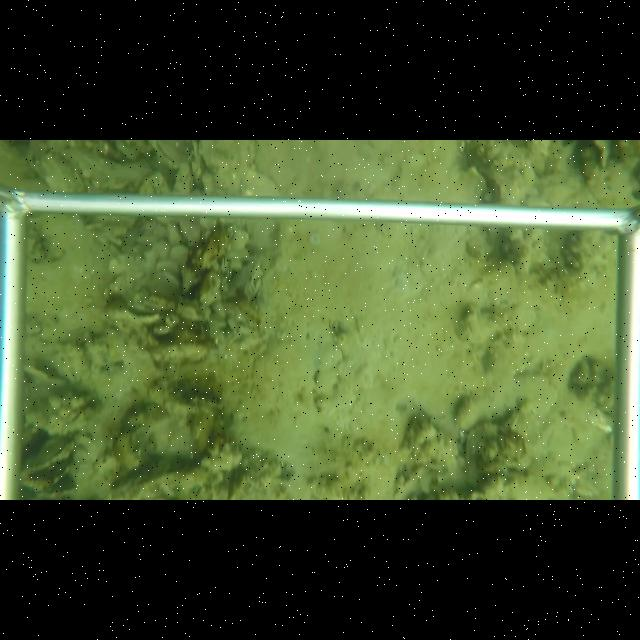Oyster-Closed: (466, 140, 536, 208), (150, 140, 178, 168), (172, 162, 195, 194), (203, 316, 217, 338), (218, 254, 230, 272), (224, 265, 232, 279)
